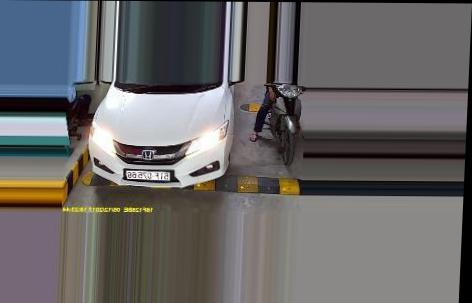License_Plate: (124, 168, 174, 181)
